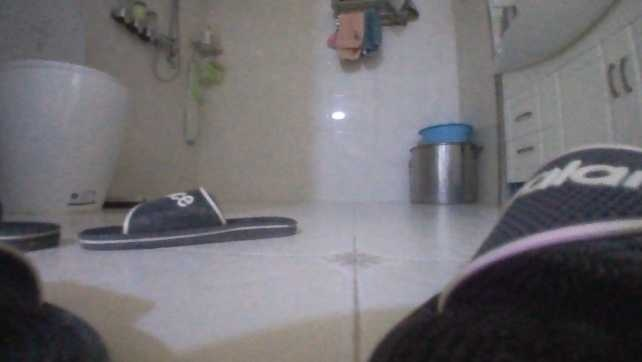slipper: (69, 183, 303, 254)
toilet: (0, 0, 134, 217)
